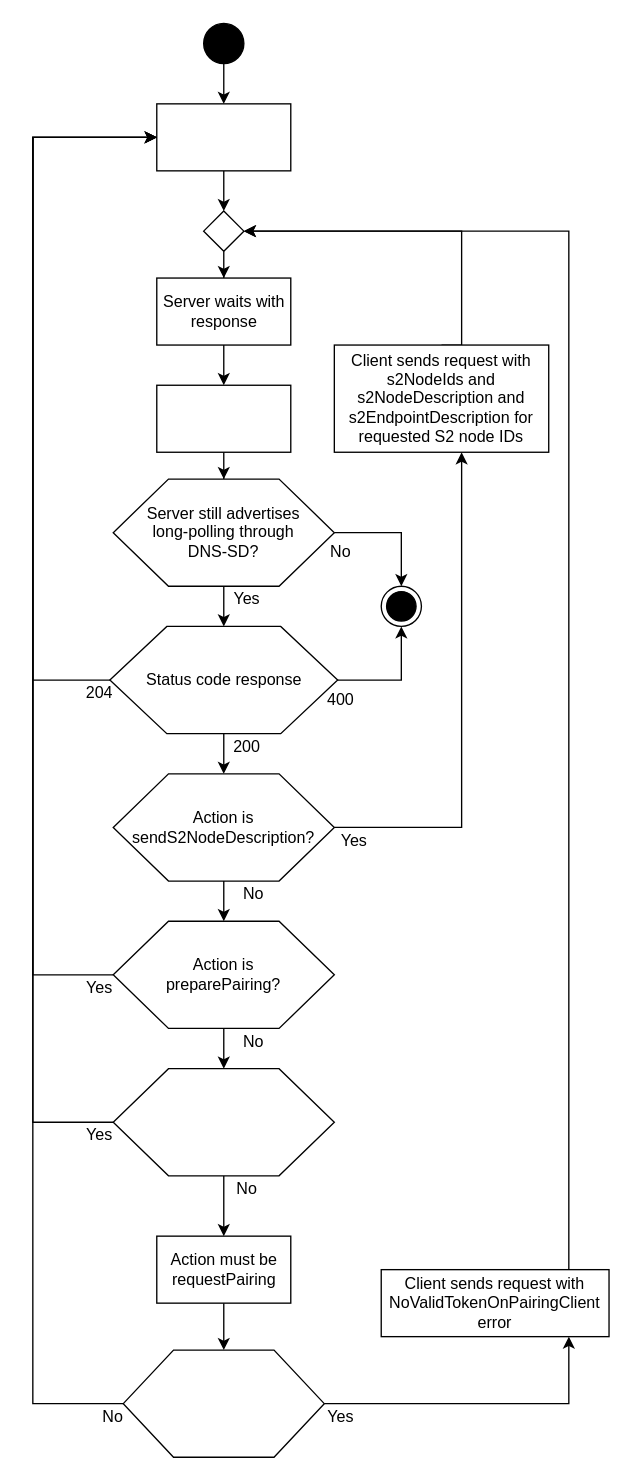
Image size: 632x1481. Some labels were removed from this diagram. Here are the shapes that lost their labels. From the top down, the centre of each, then its label:
At (x=223, y=137): "Client sends request with only s2NodeIds".
At (x=223, y=418): "Client receives response".
At (x=223, y=1121): "Action is cancelPreparePairing?".
At (x=223, y=1403): "Has the user entered a pairing code at the client?".
